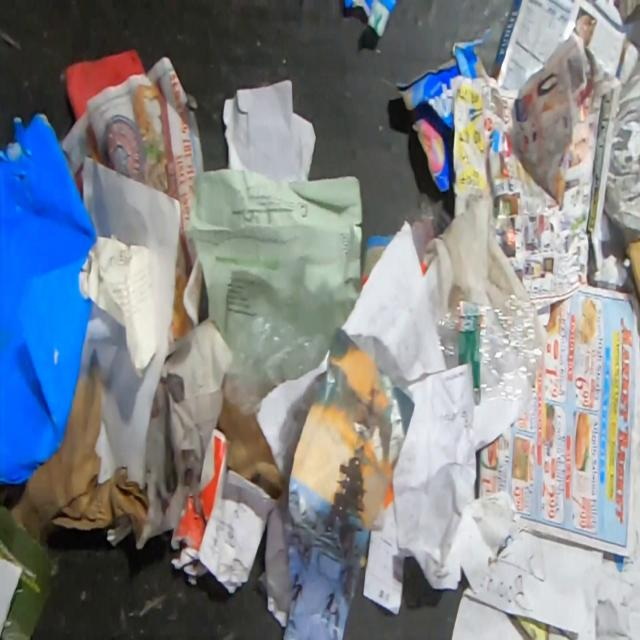cardboard: (8, 365, 150, 545), (394, 26, 493, 193), (218, 400, 285, 499)
rigid_plastic: (435, 293, 546, 407)
soft_plastic: (220, 313, 331, 416), (604, 57, 640, 241)
